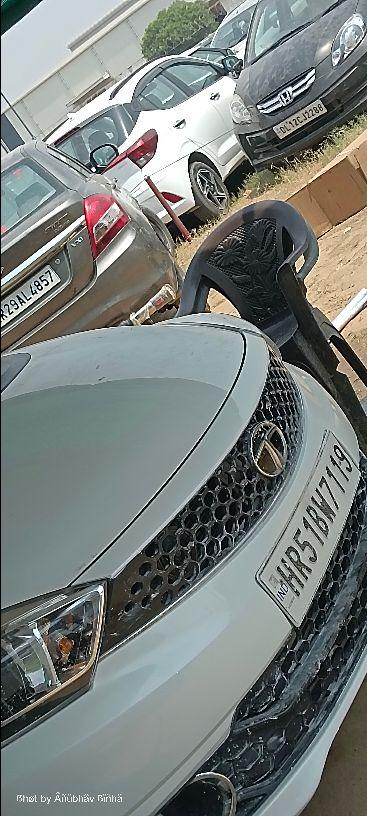license_plate: (254, 428, 361, 628), (0, 263, 61, 327), (272, 98, 327, 140)
